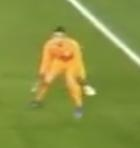goalkeeper: (24, 18, 110, 138)
